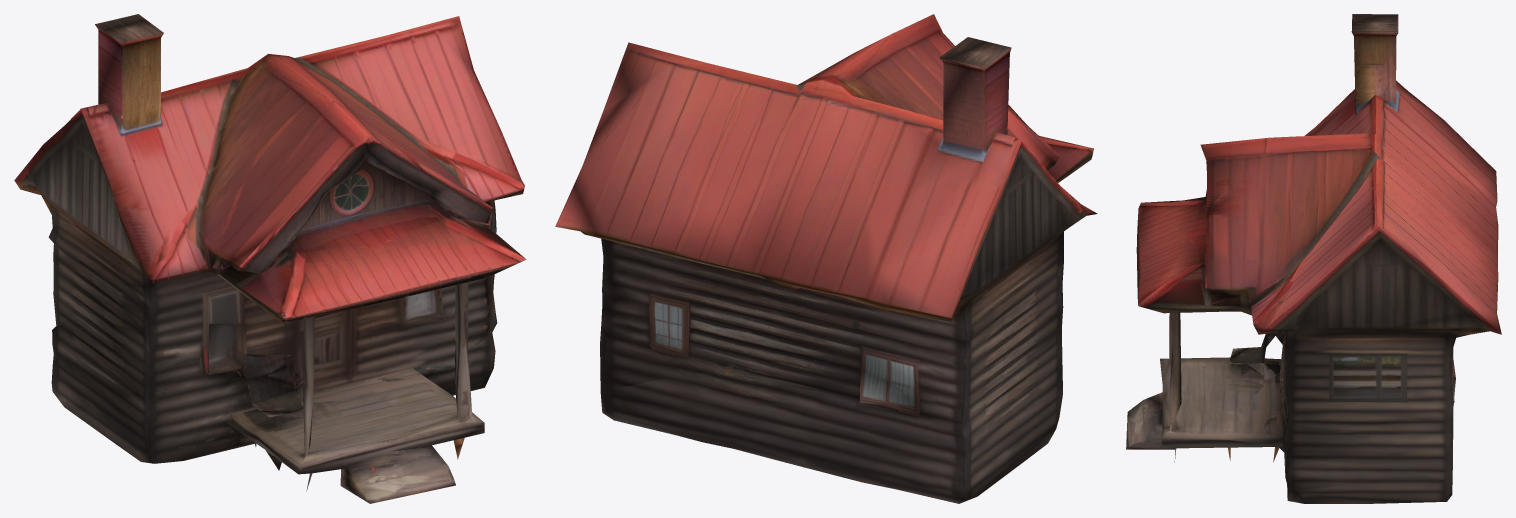
File: A_wooden_house_1121021033_texture.fbx
The picture shows the model from 3 angles, left to right: view 1: azimuth 30°, elevation 25°; view 2: azimuth 150°, elevation 25°; view 3: azimuth 270°, elevation 25°; orthographic projection. The views are drawn at different scales.
Visible parts, largest first — view 1: Mesh1.0; view 2: Mesh1.0; view 3: Mesh1.0.
Boxes of the visible parts, x1=… form: Mesh1.0: x1=14, y1=14, x2=526, y2=503; Mesh1.0: x1=555, y1=14, x2=1097, y2=503; Mesh1.0: x1=1126, y1=14, x2=1501, y2=503.
Size of the model in its own units: 199 by 200 by 195.
1 material, 1 textured.
